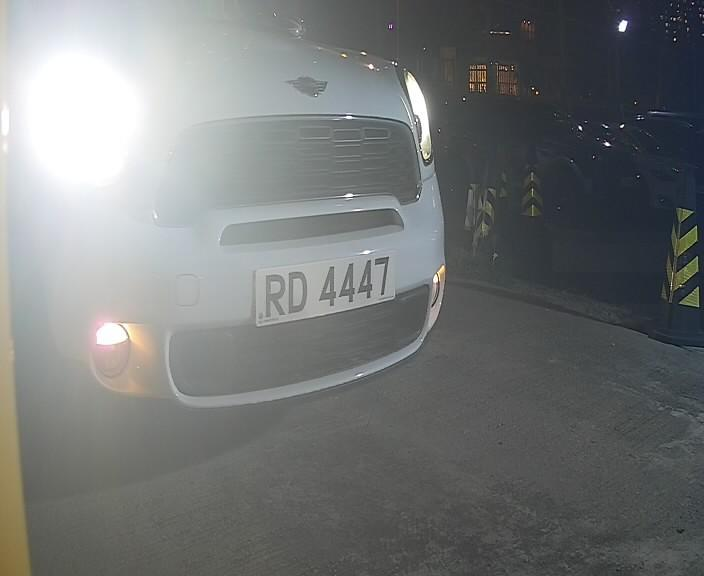privatecar: (4, 6, 478, 456)
